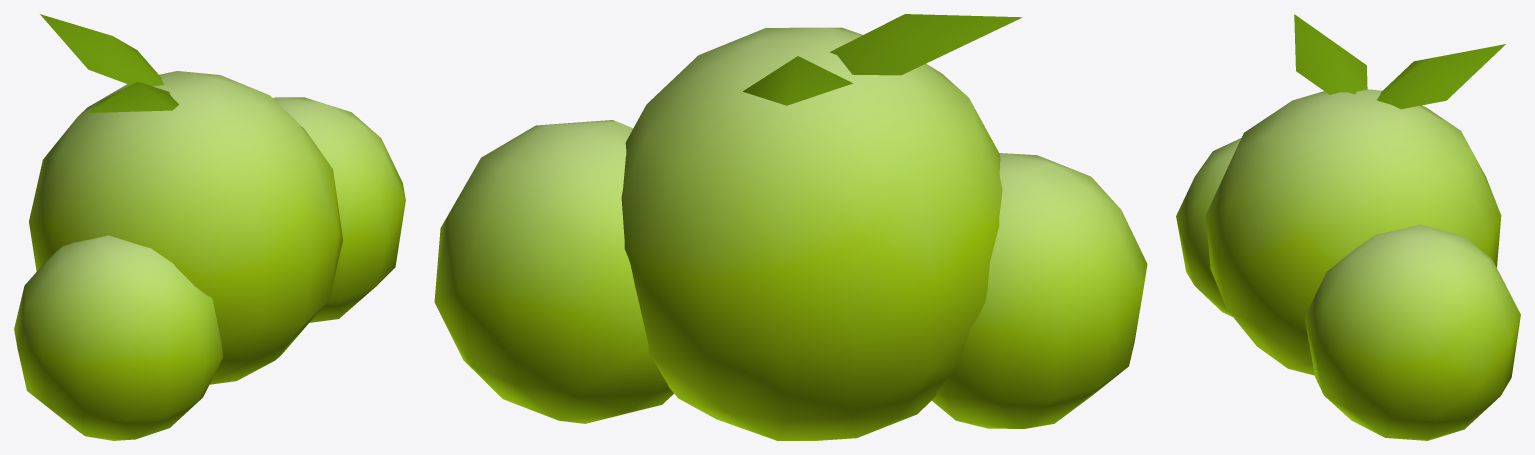
Rendered from Sludgeberry.glb.
3 renders of one model, left to right at view 1: azimuth 30°, elevation 25°; view 2: azimuth 150°, elevation 25°; view 3: azimuth 270°, elevation 25°, orthographic. The views are drawn at different scales.
Visible parts, largest first — view 1: Sludgeberry; view 2: Sludgeberry; view 3: Sludgeberry.
Part boxes in pixels (x1,y1,x2,y2): Sludgeberry: (14,14,405,440); Sludgeberry: (434,14,1147,440); Sludgeberry: (1176,14,1520,440).
Size of the model in its own units: 0.9501 by 0.66 by 0.6984.
